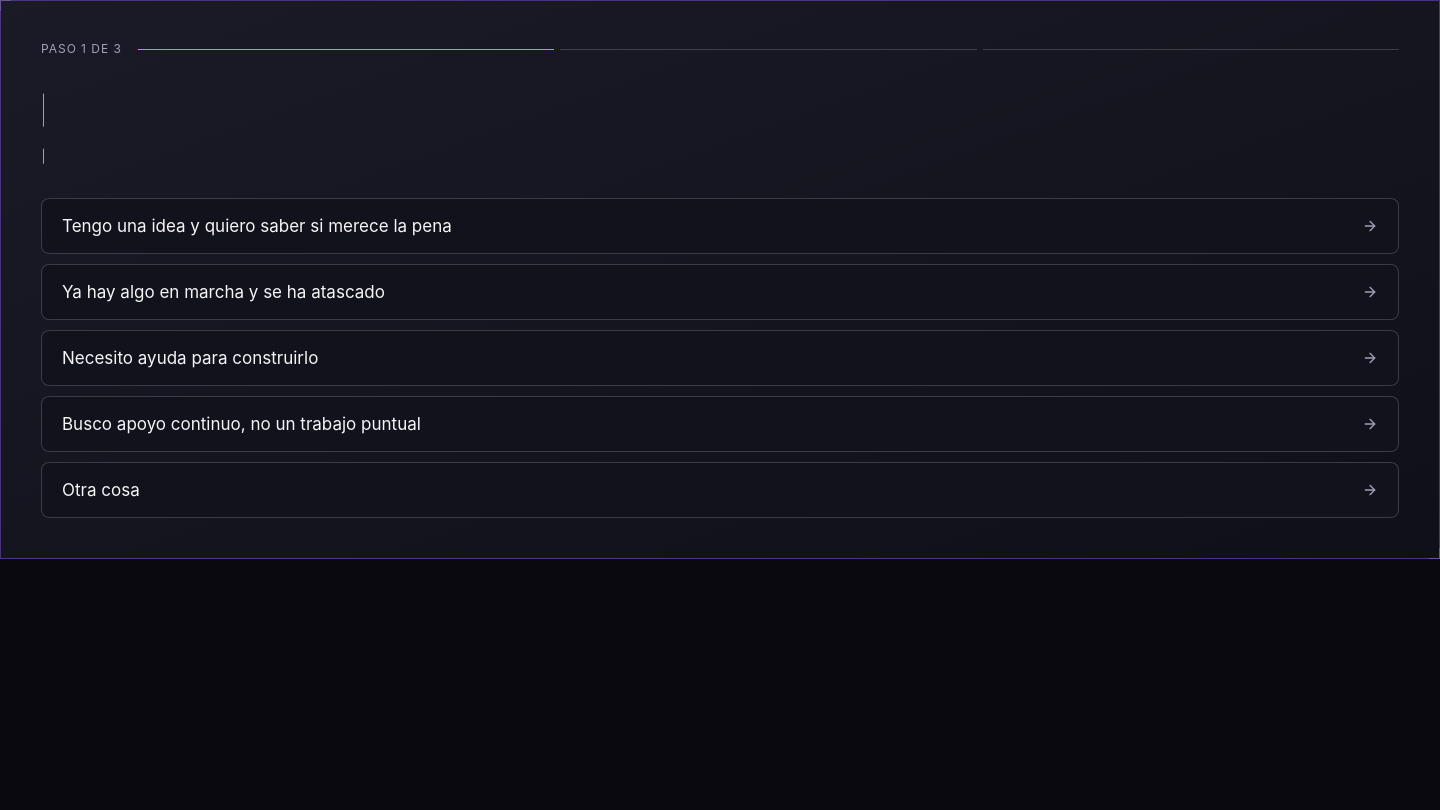
Test case: ContactForm steps › will not pass the project step with a short description
Click the button "Tengo una idea y quiero saber si merece la pena".
click(257, 226)  # box top-left (41, 198), bottom-right (1399, 254)
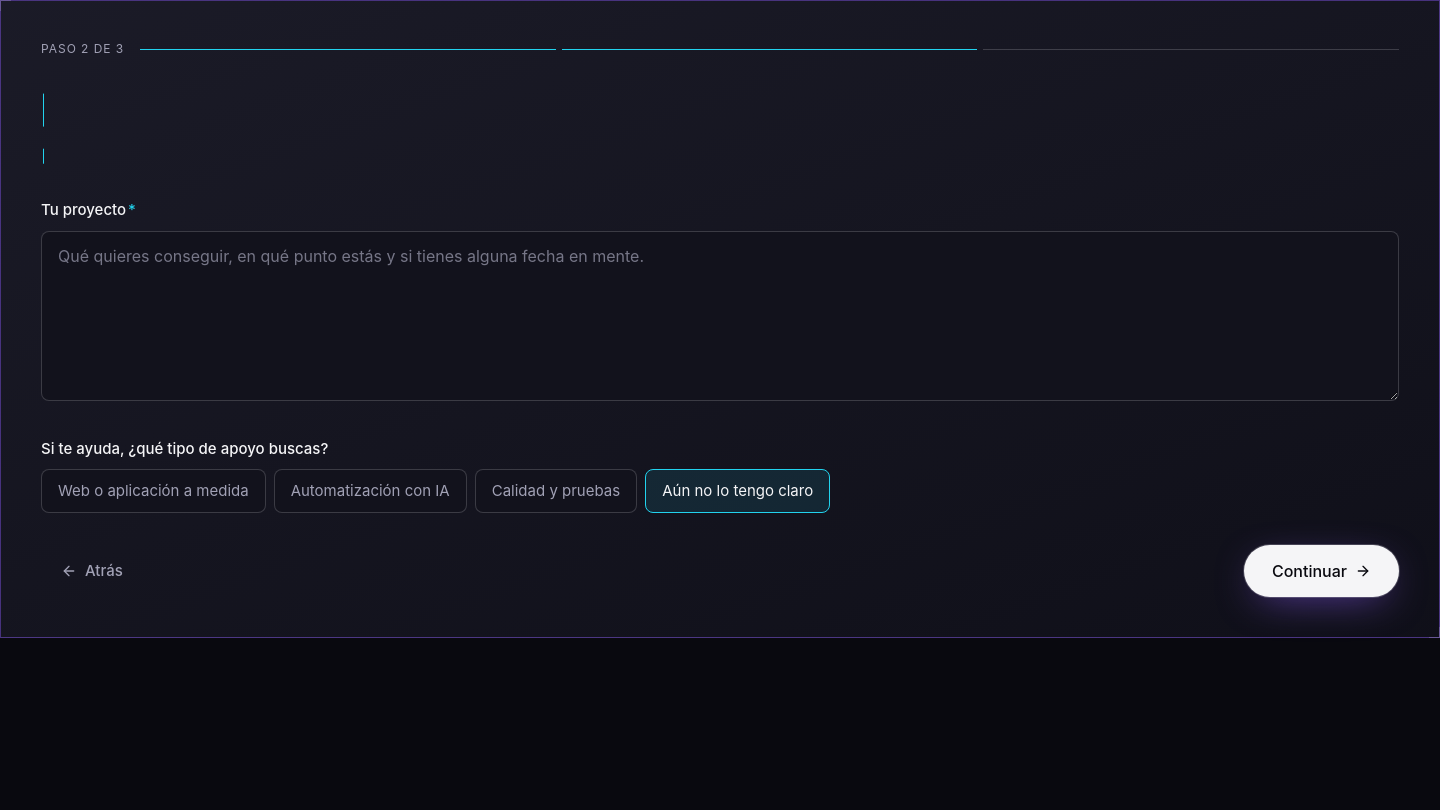
Type "Hola" into the text box labelled "Tu proyecto*".
click(720, 316); type("Hola")  # box top-left (41, 231), bottom-right (1399, 401)
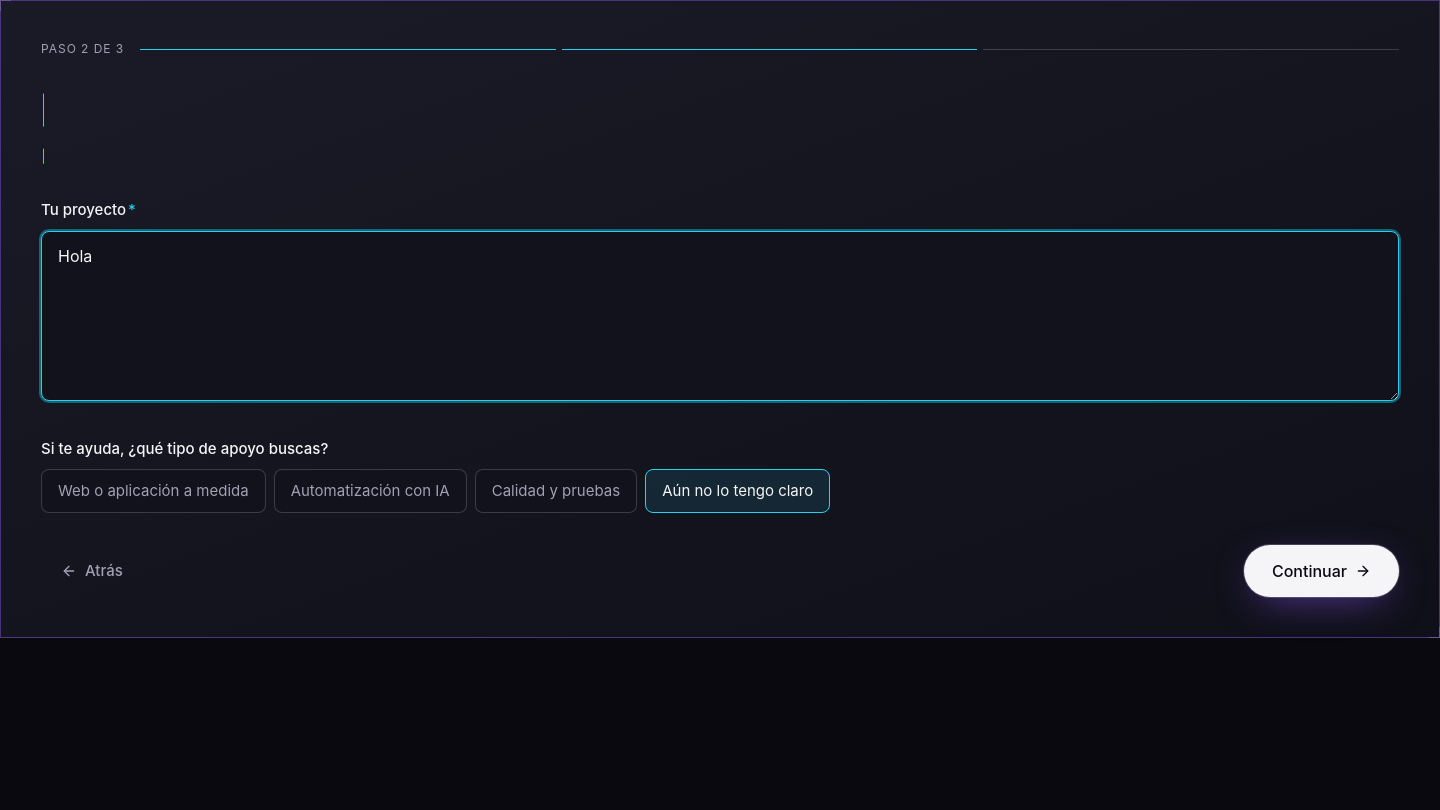
Click the button "Continuar".
click(1322, 571)  # box top-left (1244, 545), bottom-right (1399, 597)
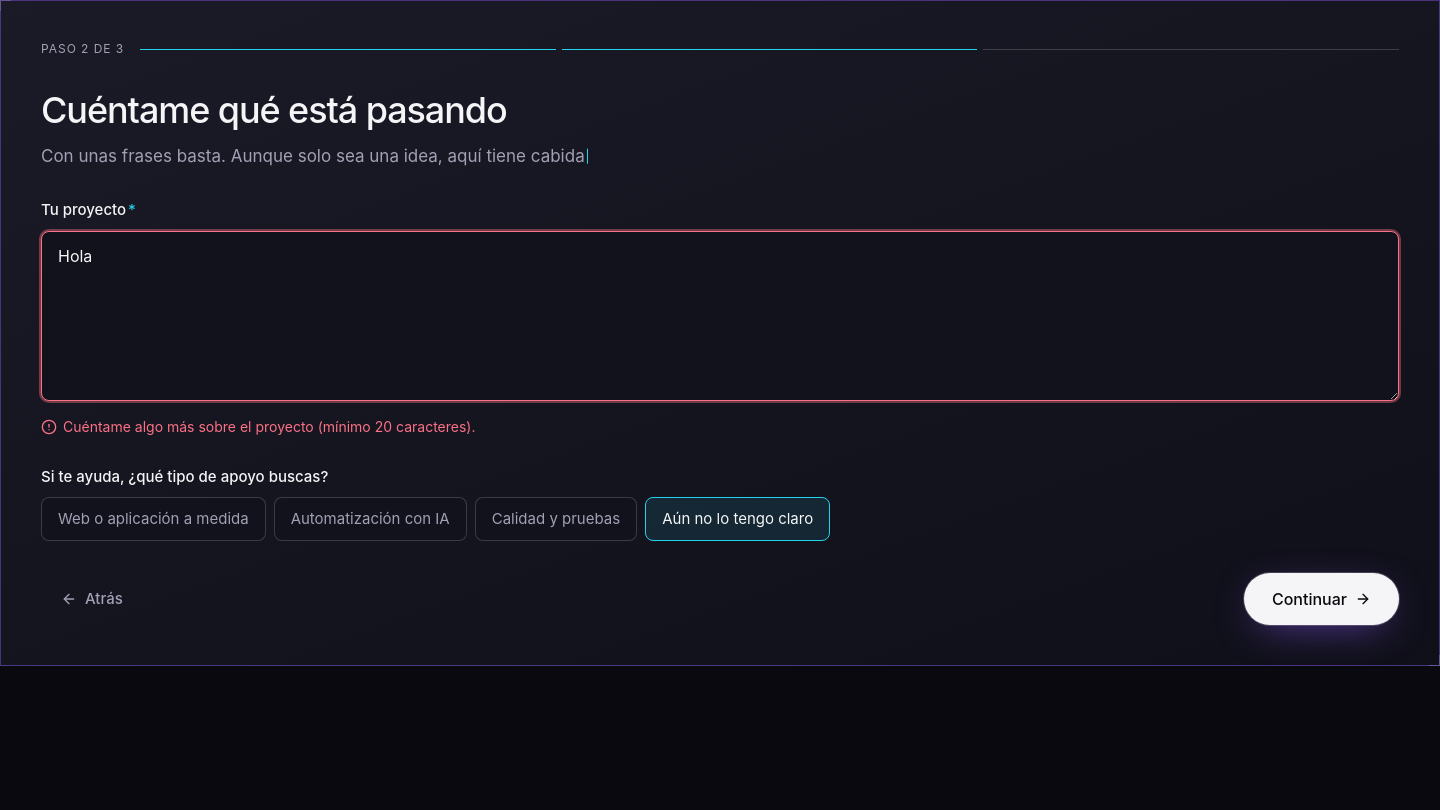
Now the text with test id "contact-progress" reads "Paso 2 de 3", box top-left (41, 41), bottom-right (124, 56)
Now the text "Cuéntame algo más sobre el proyecto (mínimo 20 caracteres)." is shown, box top-left (41, 418), bottom-right (476, 435)
